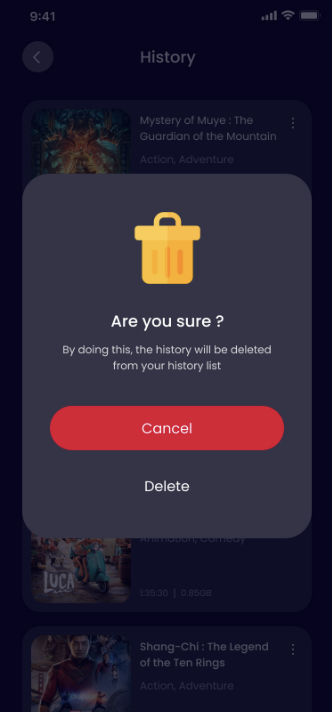Button: (49, 405, 285, 451)
